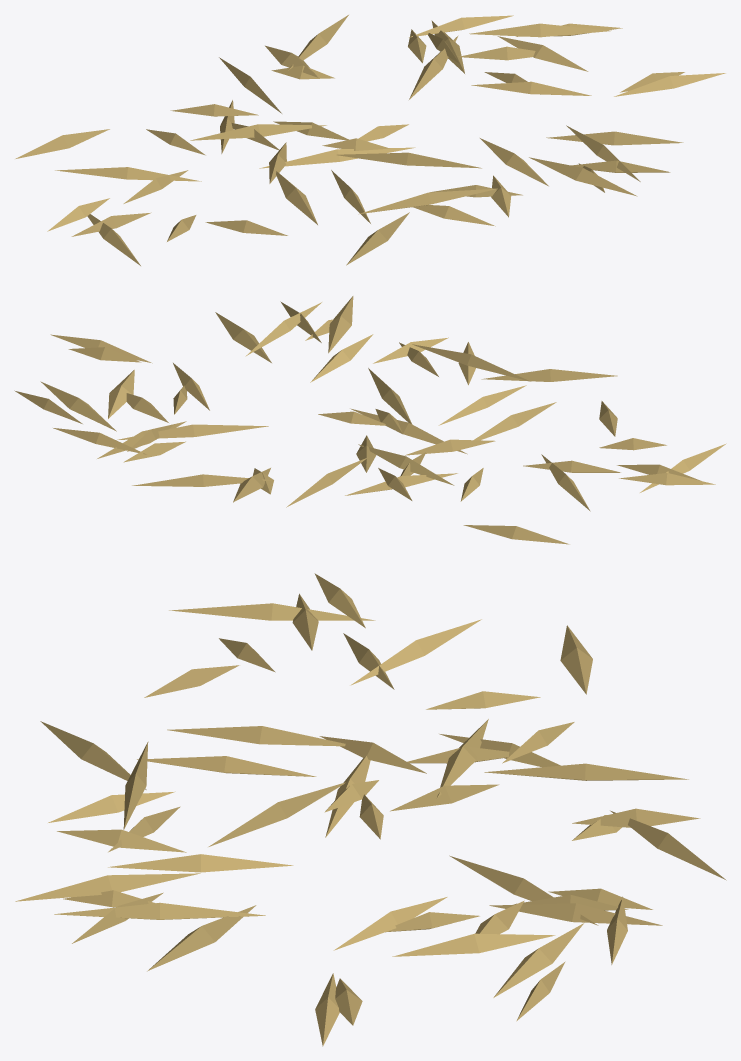
The model's file is straw_floor_patch_b.glb.
3 renders of one model, top to bottom at view 1: azimuth 30°, elevation 25°; view 2: azimuth 150°, elevation 25°; view 3: azimuth 270°, elevation 25°, orthographic. The views are drawn at different scales.
Visible parts, largest first — view 1: geometry; view 2: geometry; view 3: geometry.
Part boxes in pixels (x1,y1,x2,y2): geometry: (15,15,725,265); geometry: (14,296,726,544); geometry: (15,573,726,1046).
Bounding box in the file's own units: 0.7999 × 0.0261 × 0.524.
